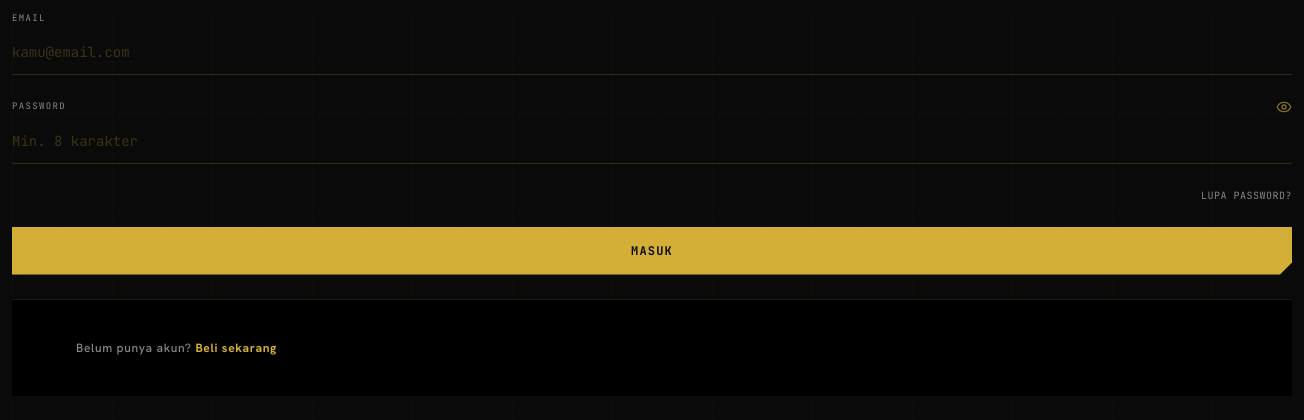
Test case: LoginForm › shows inline error jika email kosong saat submit
This screenshot has width=1304, height=420.
Click the button "MASUK" at (652, 250), box [12,226,1292,274]
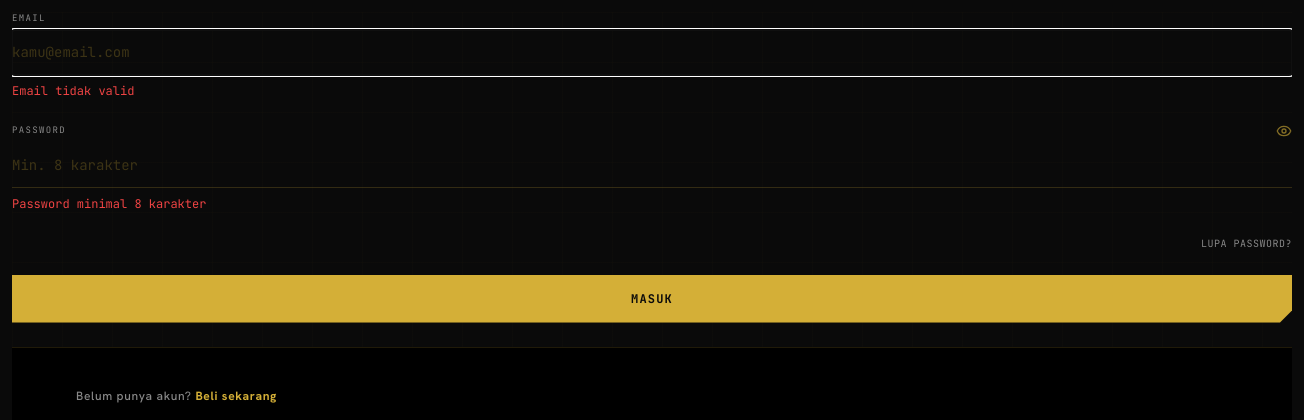
expect the text "Email tidak valid" is shown: met, box [12,82,134,98]
